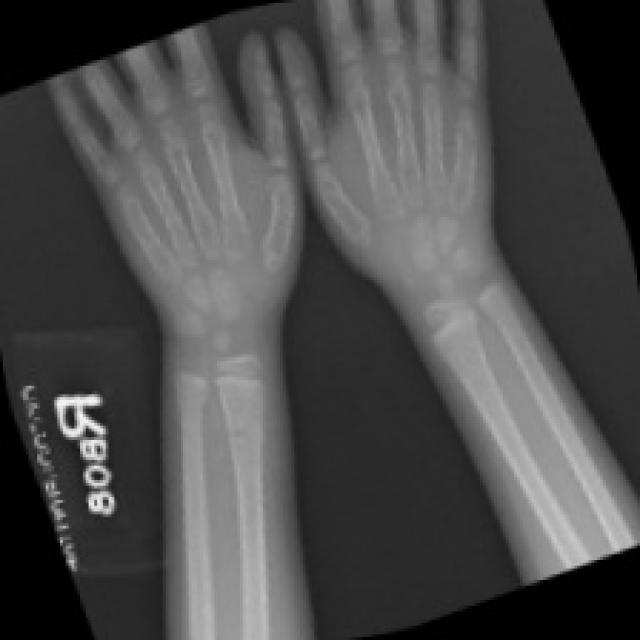fracture: (214, 395, 272, 489)
